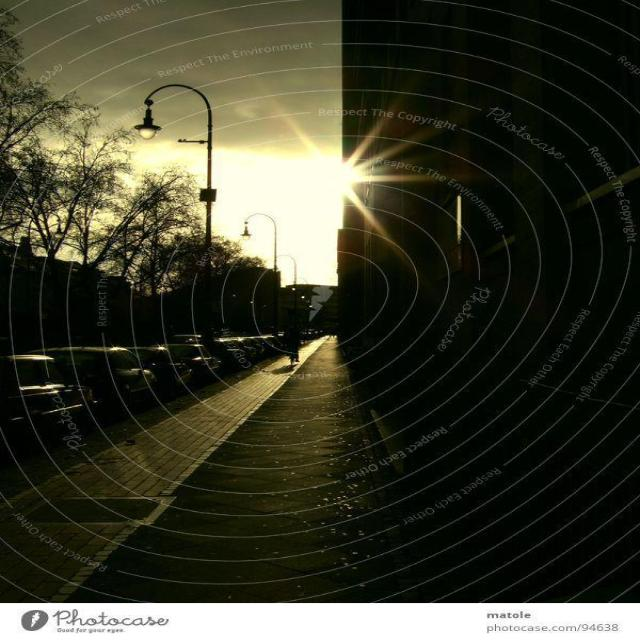other: (252, 132, 372, 261)
